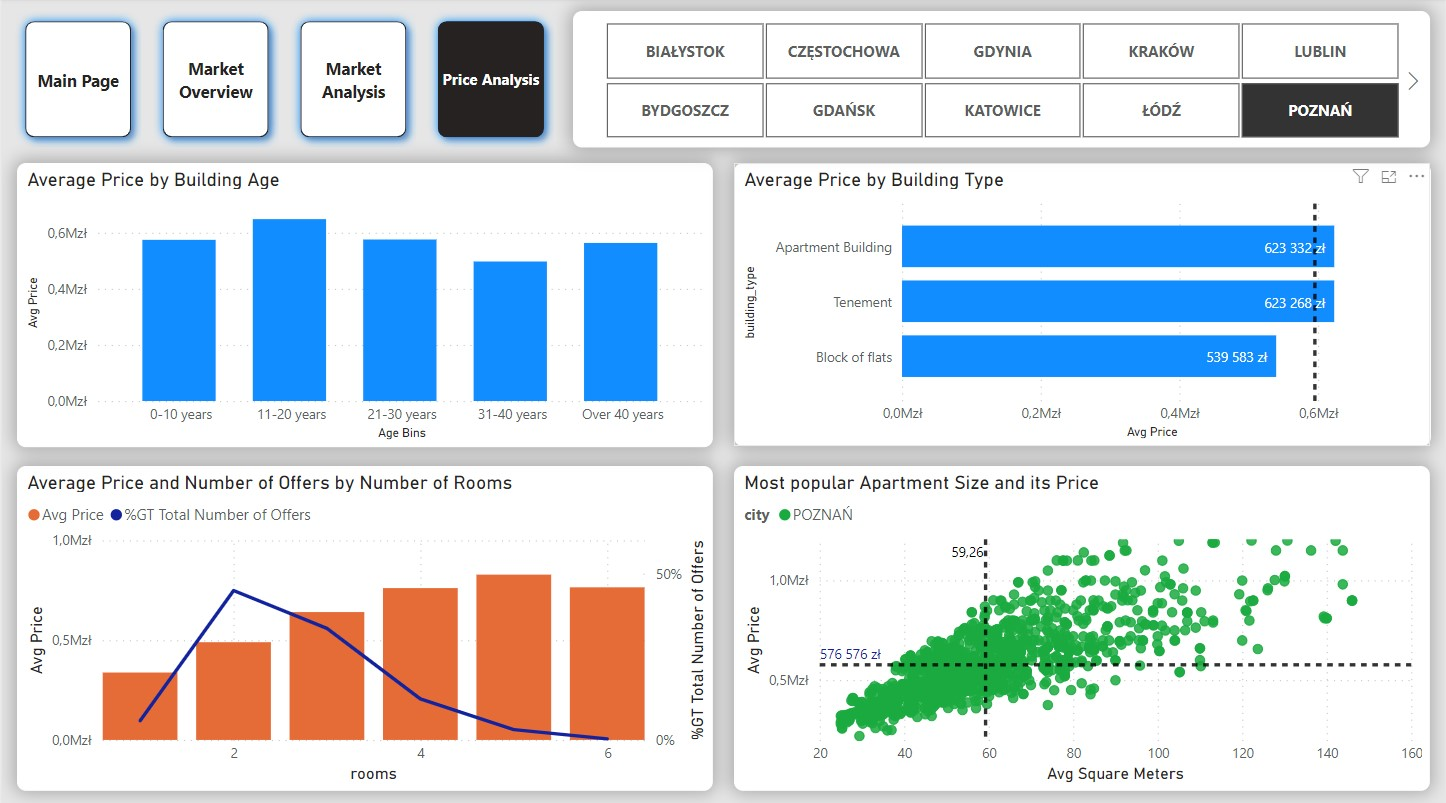

Layout of this report page (visuals, bound fields, positions):
{"tool":"powerbi","page":{"name":"Price Analysis","canvas":[1280,720],"ordinal":3},"visuals":[{"type":"scatterChart","title":"Most popular Apartment Size and its Price","fields":{"X":["_Measures.Avg Square Meters"],"Category":["Apartments_data.Index"],"Series":["DIM_City.city"],"Y":["_Measures.Avg Price"]},"box":[648.8,414.9,617.5,288.2],"z":0},{"type":"lineStackedColumnComboChart","title":"Average Price and Number of Offers by Number of Rooms","fields":{"Category":["Apartments_data.rooms"],"Y":["_Measures.Avg Price"],"Y2":["_Measures.Total Number of Offers"]},"box":[13.3,414.9,617.5,288.2],"z":1000},{"type":"columnChart","title":"Average Price by Building Age","fields":{"Category":["Apartments_data.Age Bins","FACT_Apartments_data.Age of Building"],"Y":["_Measures.Avg Price"]},"box":[13.3,145.9,617.5,259.3],"z":2000},{"type":"clusteredBarChart","title":"Average Price by Building Type","fields":{"Category":["DIM_Building_types.building_type"],"Y":["_Measures.Avg Price"]},"box":[648.8,145.9,617.5,259.3],"z":3000},{"type":"slicer","fields":{"Values":["DIM_City.city"]},"box":[506.2,11.2,760,121.2],"z":4000},{"type":"pageNavigator","box":[10.9,10.9,483.6,121.8],"z":6000}]}

Visuals, with their boxes in screenshot pixels (x1, y1, x2, y2), scaled from the page's 1280x720 canvas onto the 1446x803 screenshot:
"Most popular Apartment Size and its Price" scatterChart: BBox(733, 463, 1431, 784)
"Average Price and Number of Offers by Number of Rooms" lineStackedColumnComboChart: BBox(15, 463, 713, 784)
"Average Price by Building Age" columnChart: BBox(15, 163, 713, 452)
"Average Price by Building Type" clusteredBarChart: BBox(733, 163, 1431, 452)
slicer - DIM_City.city: BBox(572, 12, 1430, 148)
pageNavigator: BBox(12, 12, 559, 148)
